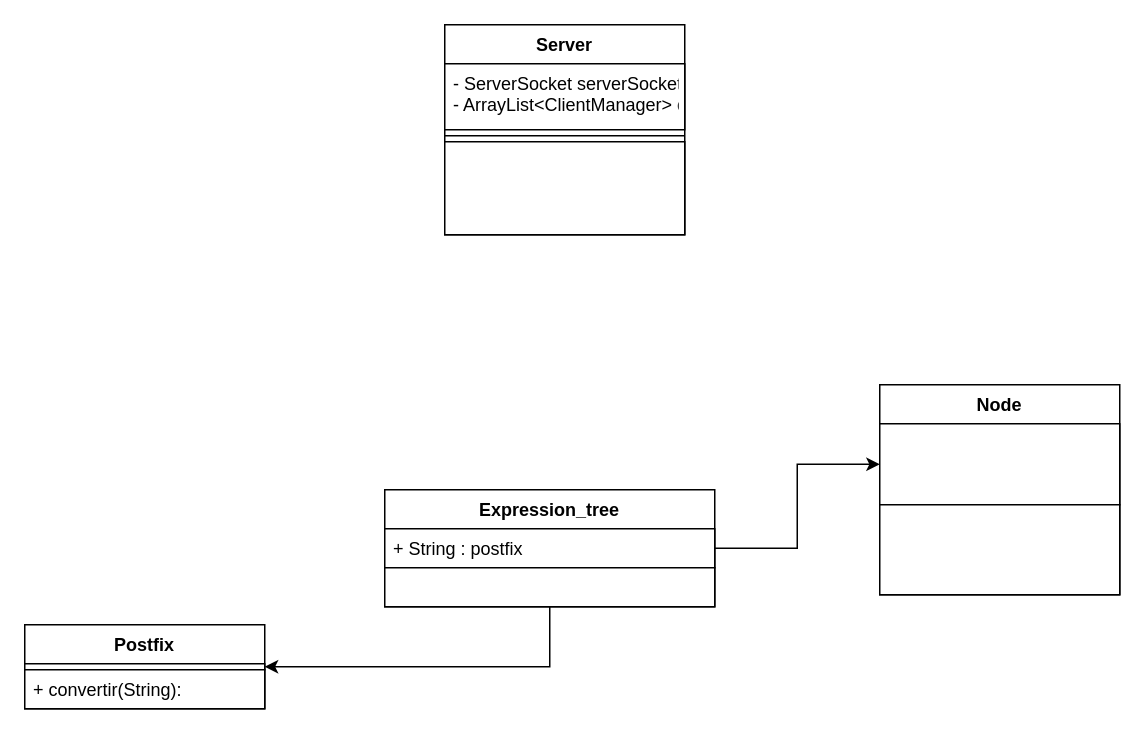
This 1145x734 diagram has some shape labels left out. Each missing label, with the centre of its shape:
"+ Crear_árbol(String postfix): Node" goes at (549,586).
"+ method(type): type + set_left(Node nodo): void + sett_right(Node nodo):void" goes at (999,549).
"+ Server(): void + startServer(): void + closeServer(): void" goes at (564,187).
"+ String: data + Node: left +Node: right" goes at (999,463).
